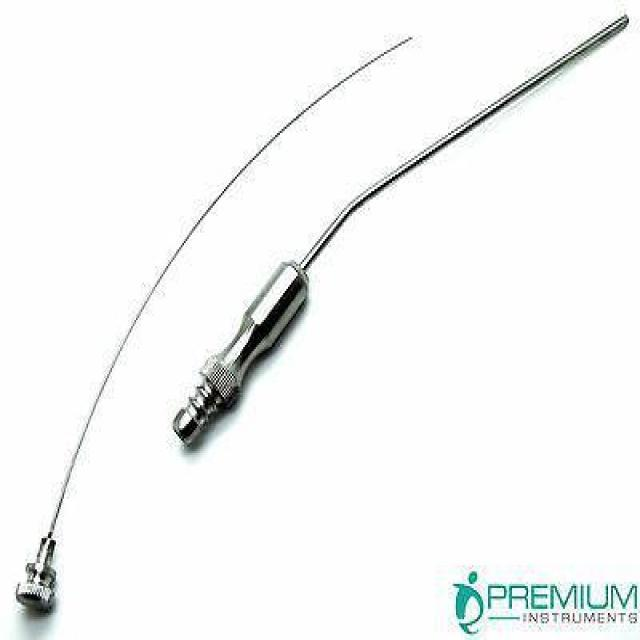Frazier: (171, 17, 629, 457)
